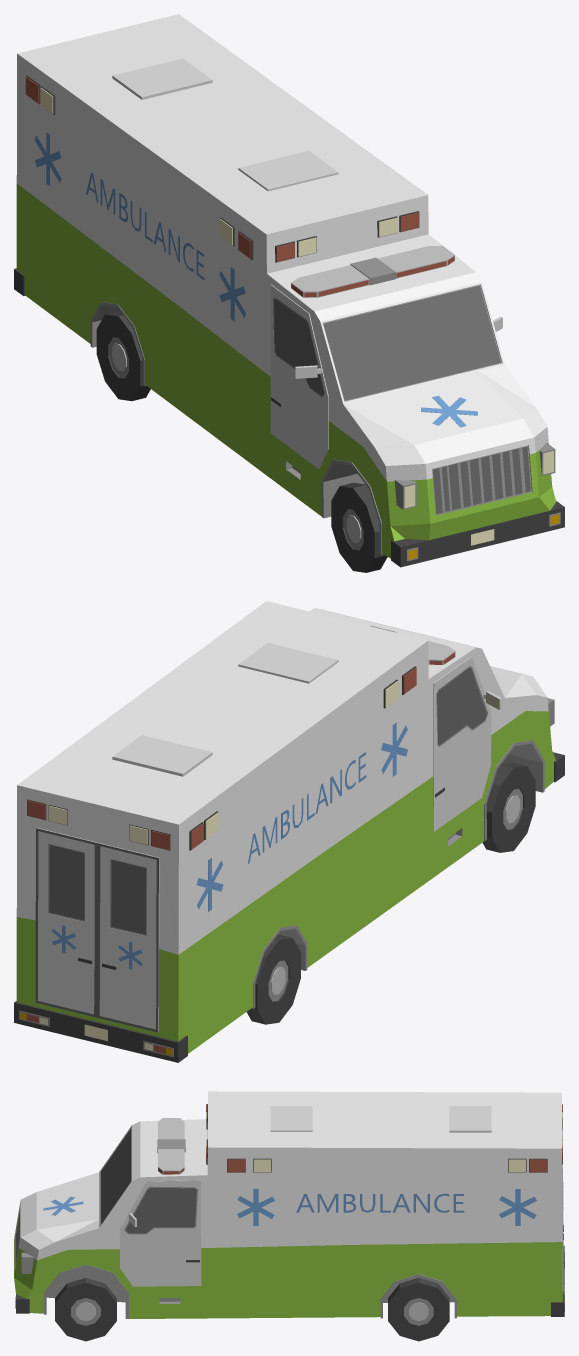
The model's file is Ambulance_1.fbx.
The picture shows the model from 3 angles, top to bottom: view 1: azimuth 30°, elevation 25°; view 2: azimuth 150°, elevation 25°; view 3: azimuth 270°, elevation 25°; orthographic projection. The views are drawn at different scales.
Parts seen in each view (by area): view 1: ty, Cylinder_2_3, Cylinder_2_1; view 2: ty, Cylinder_2_3, Cylinder_2_1; view 3: ty, Cylinder_2_2, Cylinder_2.
Part boxes in pixels (<box>): ty: <box>14,14,564,567</box>; Cylinder_2_3: <box>331,482,387,572</box>; Cylinder_2_1: <box>96,311,150,401</box>; ty: <box>14,601,564,1062</box>; Cylinder_2_3: <box>482,762,535,852</box>; Cylinder_2_1: <box>246,934,300,1024</box>; ty: <box>14,1091,564,1318</box>; Cylinder_2_2: <box>55,1278,116,1341</box>; Cylinder_2: <box>388,1278,449,1341</box>.
Size of the model in its own units: 169 by 215 by 549.
